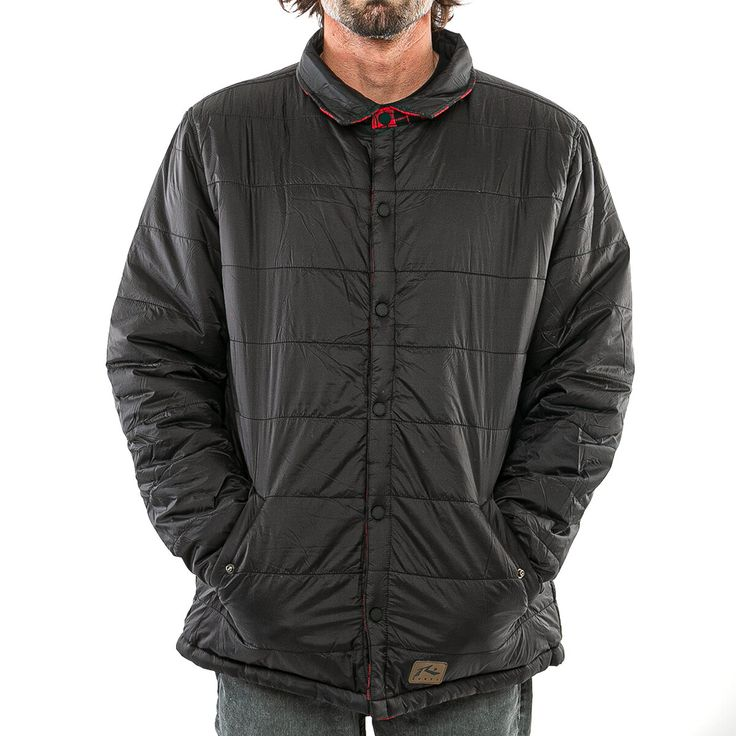nylon: (109, 23, 635, 720)
